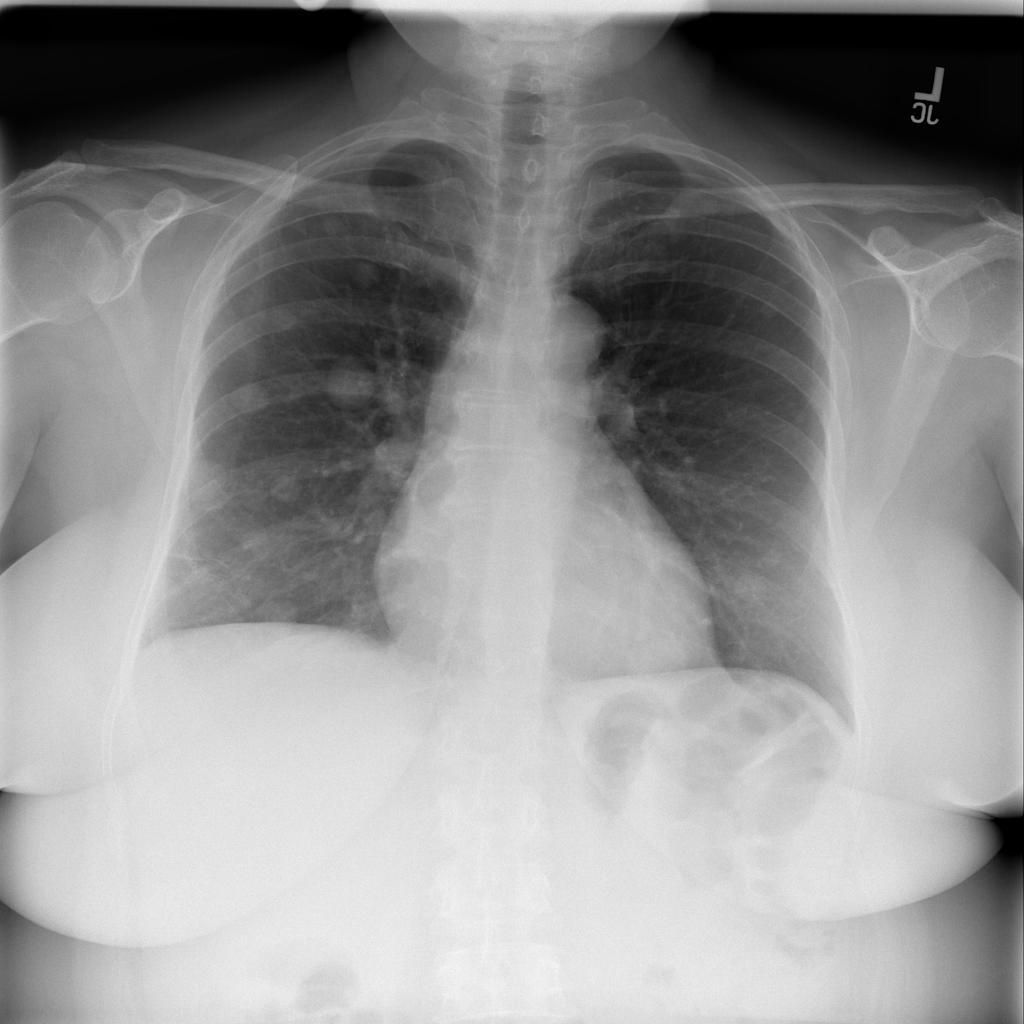nodule: (709, 554, 790, 622), (311, 346, 385, 419), (235, 586, 317, 646), (174, 447, 242, 515), (224, 370, 279, 420), (228, 518, 287, 562), (254, 463, 309, 510), (743, 286, 798, 332), (250, 295, 308, 338), (305, 200, 356, 247), (342, 245, 390, 290)
